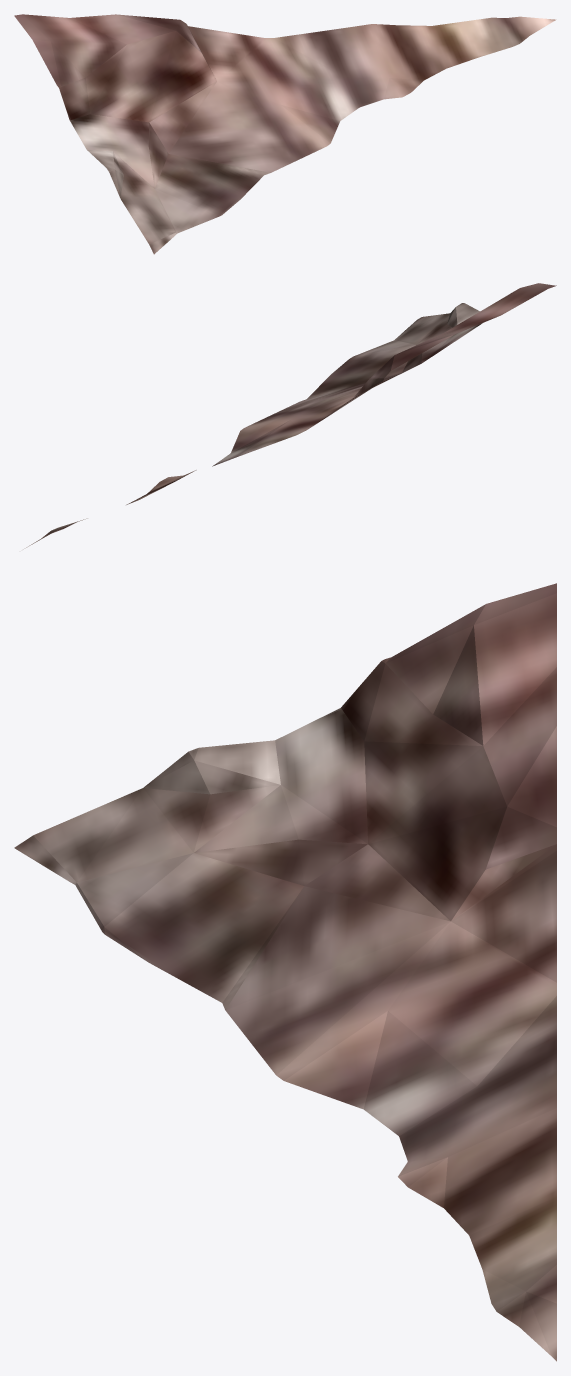
3 renders of one model, top to bottom at view 1: azimuth 30°, elevation 25°; view 2: azimuth 210°, elevation 25°; view 3: azimuth 270°, elevation 25°, orthographic. The views are drawn at different scales.
Size of the model in its own units: 0.9511 by 0.2285 by 0.4248.
Materials: 1 (1 with a texture image).
